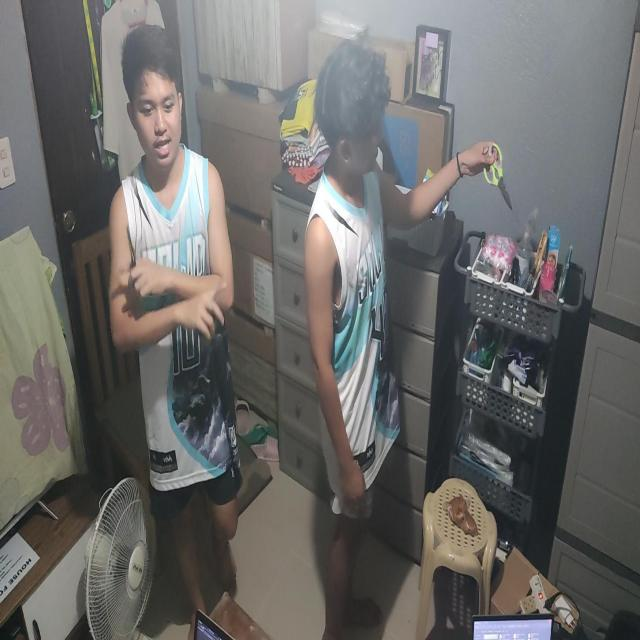scissor: (484, 144, 514, 214)
